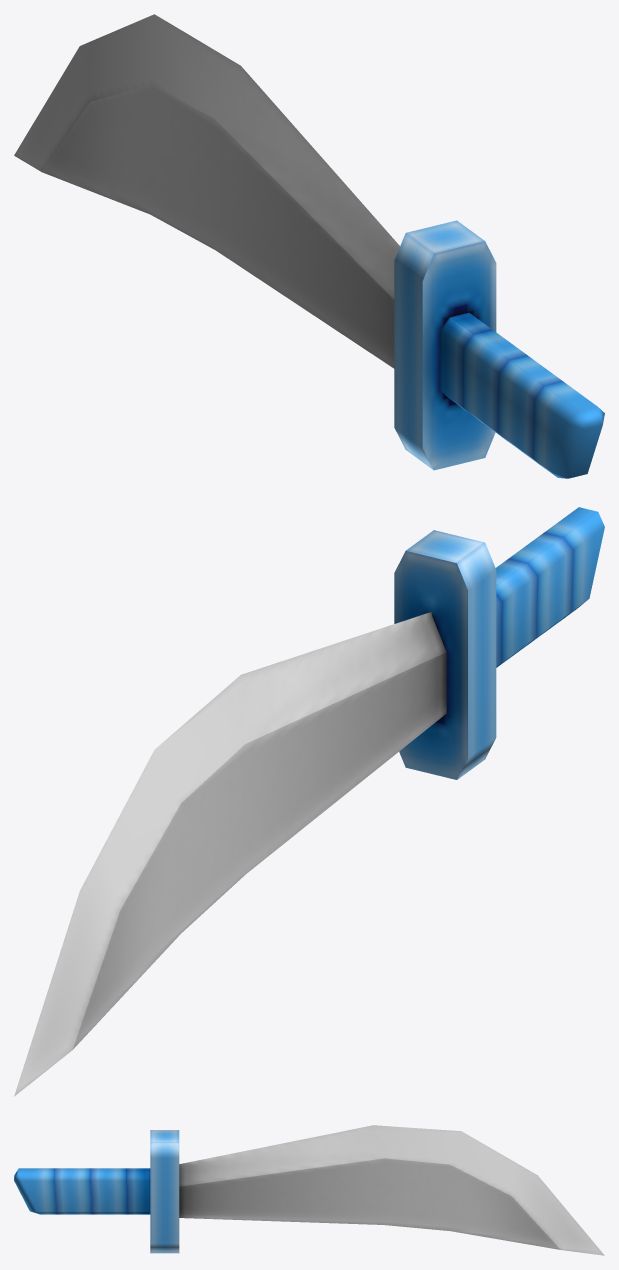
Rendered from sword013.fbx.
The picture shows the model from 3 angles, top to bottom: view 1: azimuth 30°, elevation 25°; view 2: azimuth 150°, elevation 25°; view 3: azimuth 270°, elevation 25°; orthographic projection. The views are drawn at different scales.
Visible parts, largest first — view 1: sword013; view 2: sword013; view 3: sword013.
Boxes of the visible parts, bbox=[...] form: sword013: bbox=[14, 14, 604, 478]; sword013: bbox=[14, 507, 604, 1096]; sword013: bbox=[14, 1125, 604, 1255].
Size of the model in its own units: 0.0477 by 0.1584 by 0.6498.
